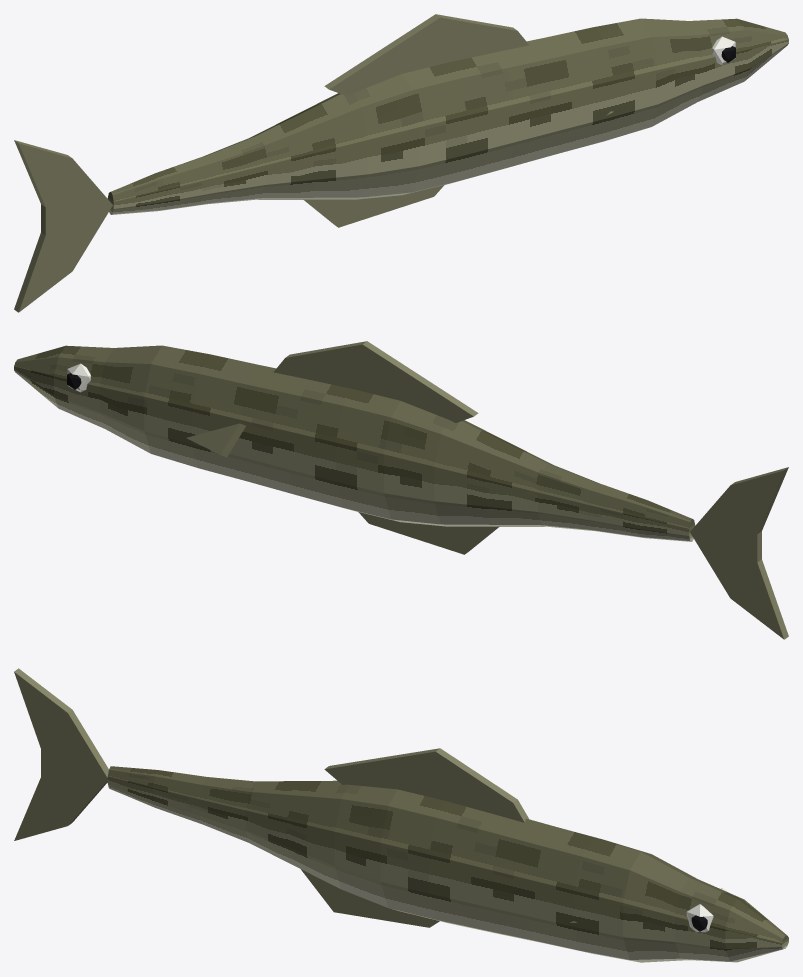
File: mountain_galaxias.glb
3 renders of one model, top to bottom at view 1: azimuth 30°, elevation 25°; view 2: azimuth 150°, elevation 25°; view 3: azimuth 330°, elevation 25°, orthographic.
Visible parts, largest first — view 1: fish_mountain_galaxias; view 2: fish_mountain_galaxias; view 3: fish_mountain_galaxias.
Part boxes in pixels (x1=…): fish_mountain_galaxias: x1=14, y1=14, x2=788, y2=312; fish_mountain_galaxias: x1=14, y1=341, x2=788, y2=639; fish_mountain_galaxias: x1=14, y1=668, x2=788, y2=962.
Bounding box in the file's own units: 1.14 × 0.2725 × 0.1267.
4 materials, 1 textured.
